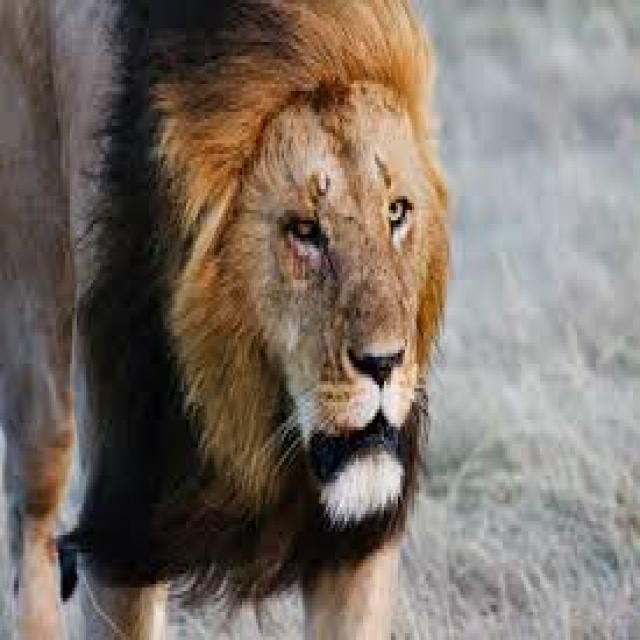Lion: (0, 4, 456, 635)
